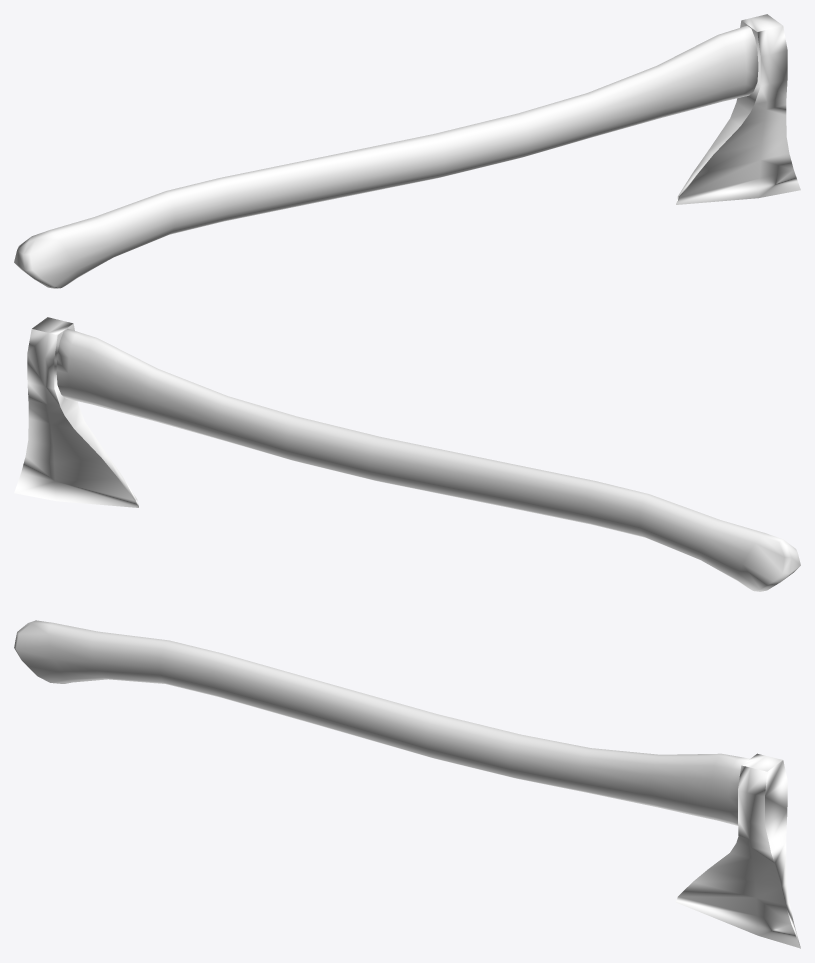
File: StoneAxe_Mesh.fbx
3 views of the same model, one above another, from view 1: azimuth 30°, elevation 25°; view 2: azimuth 150°, elevation 25°; view 3: azimuth 330°, elevation 25° (orthographic).
Parts seen in each view (by area): view 1: StoneAxe; view 2: StoneAxe; view 3: StoneAxe.
Part boxes in pixels (bbox=[...]): StoneAxe: bbox=[14, 14, 800, 288]; StoneAxe: bbox=[14, 317, 800, 591]; StoneAxe: bbox=[14, 620, 800, 948].
Bounding box in the file's own units: 0.6958 × 0.1502 × 0.0352.
